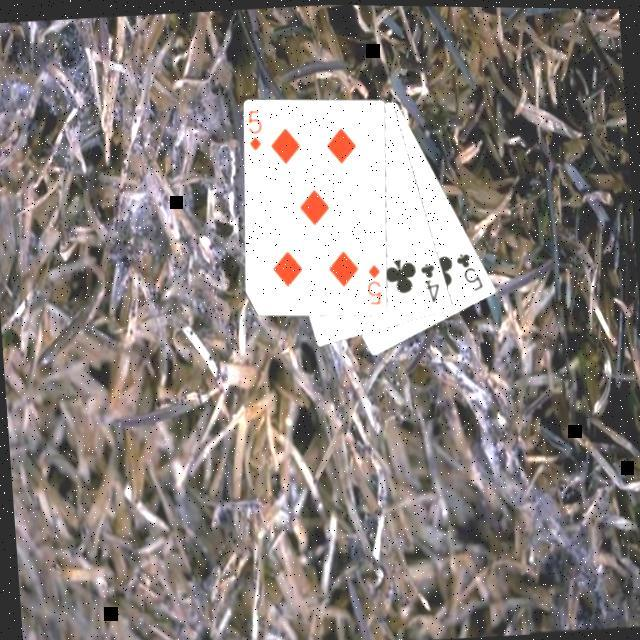4C: (414, 256, 442, 304)
5C: (450, 245, 485, 292)
5D: (359, 258, 384, 306), (240, 104, 264, 152)
